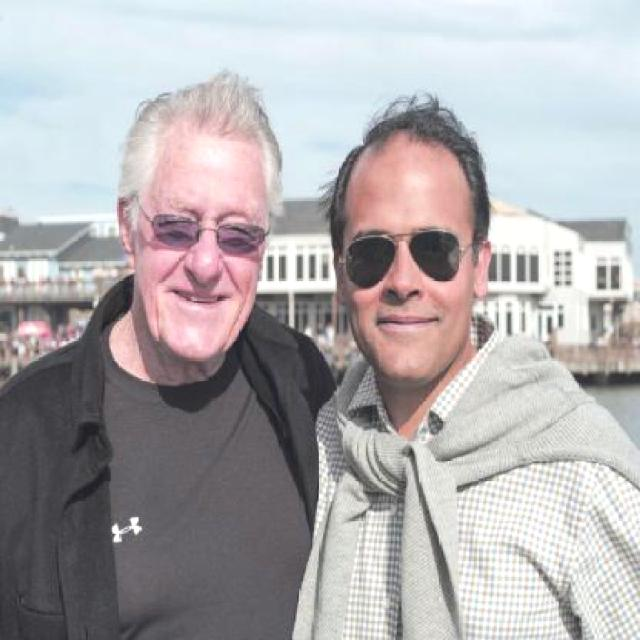face_nomask: (338, 232, 465, 342), (142, 216, 266, 318)
glasses: (341, 218, 468, 302), (147, 207, 268, 256)
head_nohelmet: (133, 85, 289, 173), (340, 109, 480, 193)
person: (0, 78, 349, 640), (314, 86, 640, 640)
